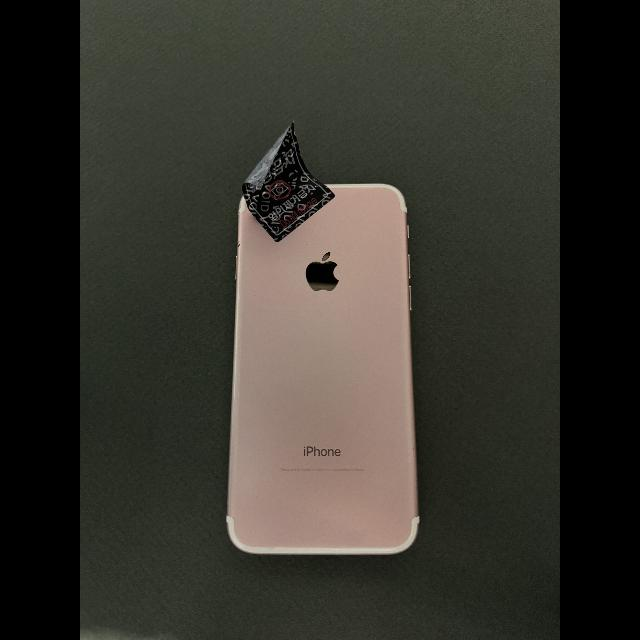phone: (225, 185, 419, 556)
sticker: (242, 120, 335, 241)
